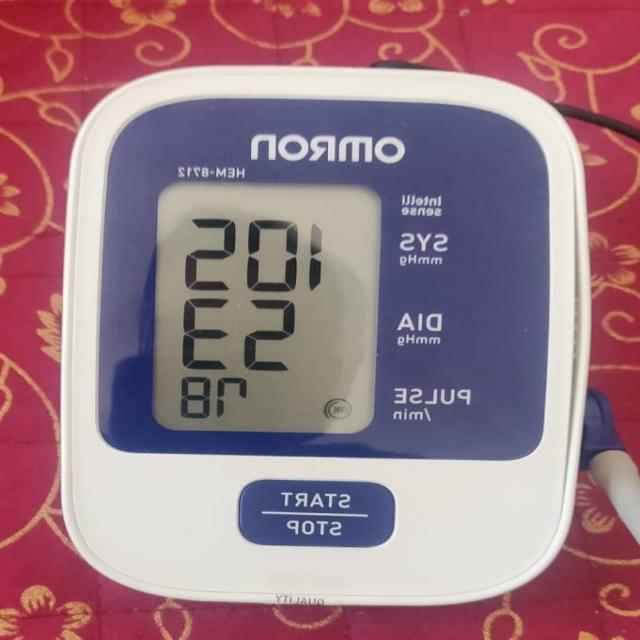bp: (1, 65, 640, 639)
